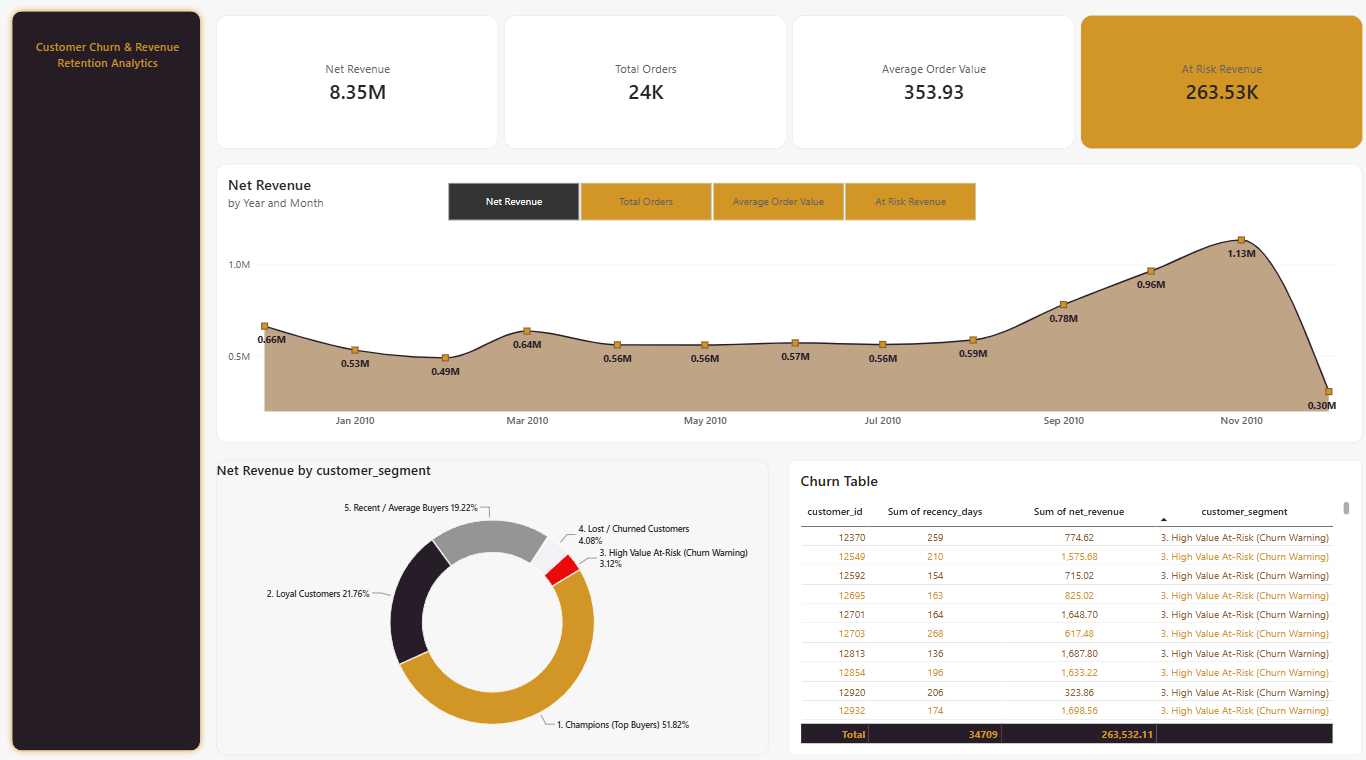

What the dashboard file says about the page in this screenshot:
{"tool":"powerbi","page":{"name":"Page 1","canvas":[1920,1080],"ordinal":0},"visuals":[{"type":"cardVisual","fields":{"Data":["ecommerce_db dim_customers.Net Revenue","ecommerce_db dim_customers.Total Orders","ecommerce_db dim_customers.Average Order Value","ecommerce_db dim_customers.At Risk Revenue"]},"box":[306.1,28.6,1600,187.8],"z":0},{"type":"shape","box":[14.3,14.3,279.6,1049],"z":1000},{"type":"textbox","box":[30.6,61.2,249,75.5],"z":2000},{"type":"lineChart","fields":{"Y":["ecommerce_db dim_customers.Net Revenue"],"Category":["ecommerce_db fact_transactions.transaction_date.Variation.Date Hierarchy.Year","ecommerce_db fact_transactions.transaction_date.Variation.Date Hierarchy.Month"]},"box":[306.1,234.7,1600,389.8],"z":3000},{"type":"donutChart","fields":{"Category":["ecommerce_db view_customer_rfm_segments.customer_segment"],"Y":["ecommerce_db dim_customers.Net Revenue"]},"box":[306.1,649,771.4,412.2],"z":4000},{"type":"tableEx","title":"Churn Table","fields":{"Values":["ecommerce_db view_customer_rfm_segments.customer_id","Sum(ecommerce_db view_customer_rfm_segments.recency_days)","Sum(ecommerce_db view_customer_rfm_segments.net_revenue)","ecommerce_db view_customer_rfm_segments.customer_segment"]},"box":[1106.1,649,800,412.2],"z":5000},{"type":"slicer","fields":{"Values":["Button.Button"]},"box":[610,260,776,56],"z":6000}]}

Visuals, with their boxes in screenshot pixels (x1, y1, x2, y2), scaled from the page's 1920x1080 canvas onto the 1366x760 screenshot:
cardVisual - ecommerce_db dim_customers.Net Revenue x ecommerce_db dim_customers.Total Orders: {"x1": 218, "y1": 20, "x2": 1356, "y2": 152}
shape: {"x1": 10, "y1": 10, "x2": 209, "y2": 748}
textbox: {"x1": 22, "y1": 43, "x2": 199, "y2": 96}
lineChart - ecommerce_db dim_customers.Net Revenue x ecommerce_db fact_transactions.transaction_date.Variation.Date Hierarchy.Year: {"x1": 218, "y1": 165, "x2": 1356, "y2": 439}
donutChart - ecommerce_db view_customer_rfm_segments.customer_segment x ecommerce_db dim_customers.Net Revenue: {"x1": 218, "y1": 457, "x2": 767, "y2": 747}
"Churn Table" tableEx: {"x1": 787, "y1": 457, "x2": 1356, "y2": 747}
slicer - Button.Button: {"x1": 434, "y1": 183, "x2": 986, "y2": 222}
